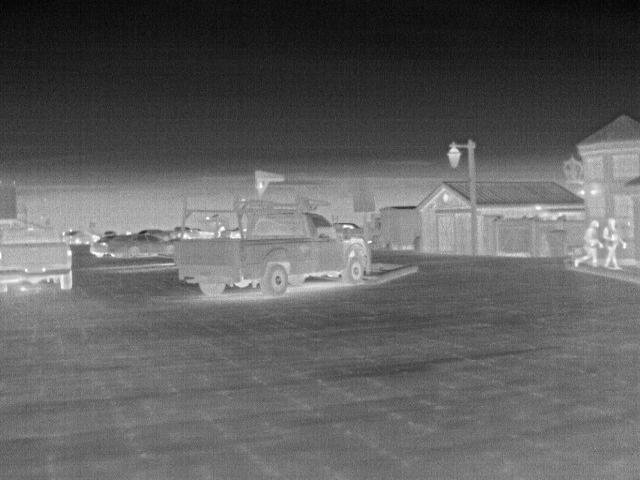car: (171, 208, 373, 300), (1, 222, 77, 294), (107, 235, 163, 264), (90, 234, 119, 259)
person: (570, 220, 605, 269), (598, 216, 626, 268)
